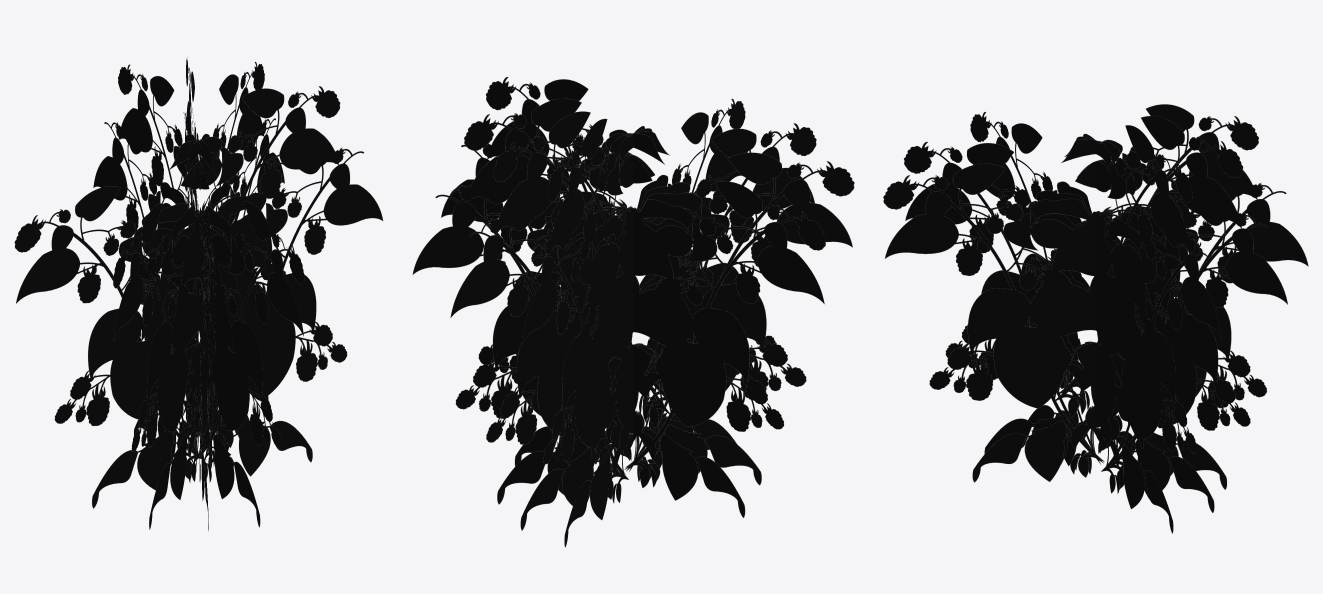
The model's file is BushRaspberry.glb.
3 views of the same model, side by side, from view 1: azimuth 30°, elevation 25°; view 2: azimuth 150°, elevation 25°; view 3: azimuth 270°, elevation 25° (orthographic). The views are drawn at different scales.
Visible parts, largest first — view 1: BushRaspberry; view 2: BushRaspberry; view 3: BushRaspberry.
Boxes of the visible parts, bbox=[...] form: BushRaspberry: bbox=[14, 57, 383, 531]; BushRaspberry: bbox=[412, 77, 854, 547]; BushRaspberry: bbox=[883, 104, 1308, 533].
Size of the model in its own units: 2 by 2 by 2.
1 material, 1 textured.
